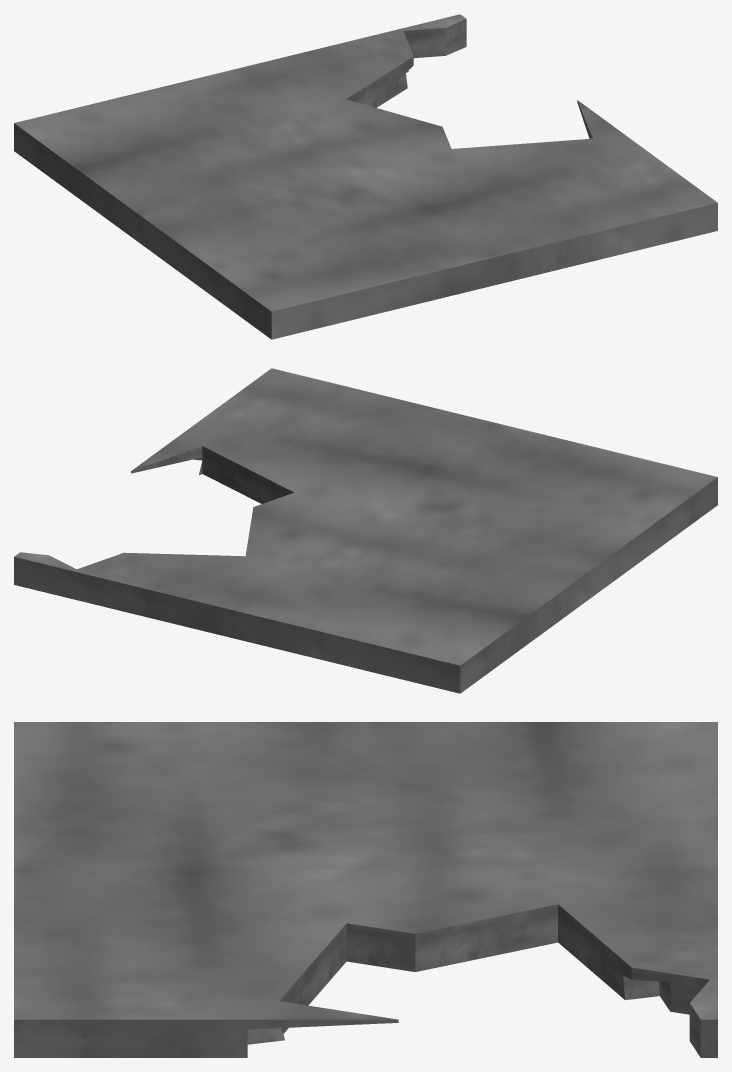
File: Dirty Carbon Floor Broken S.fbx
3 views of the same model, one above another, from view 1: azimuth 30°, elevation 25°; view 2: azimuth 150°, elevation 25°; view 3: azimuth 270°, elevation 25° (orthographic). The views are drawn at different scales.
Parts seen in each view (by area): view 1: dirty carbon grey Mesh (1), dirty carbon dark grey Mesh (1); view 2: dirty carbon grey Mesh (1), dirty carbon dark grey Mesh (1); view 3: dirty carbon grey Mesh (1), dirty carbon dark grey Mesh (1).
Part boxes in pixels (<box>): dirty carbon grey Mesh (1): <box>14,14,717,339</box>; dirty carbon dark grey Mesh (1): <box>346,19,592,138</box>; dirty carbon grey Mesh (1): <box>14,368,717,693</box>; dirty carbon dark grey Mesh (1): <box>131,446,293,503</box>; dirty carbon grey Mesh (1): <box>14,722,717,1057</box>; dirty carbon dark grey Mesh (1): <box>247,904,709,1057</box>.
Size of what is drawn, in the model's own units: 5 by 0.3 by 5.
